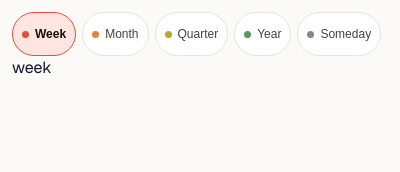
TimeframeChipGroup › clicking a different chip switches selection (not toggle)
Click the button "Quarter": (191, 34) [154,12,228,56]
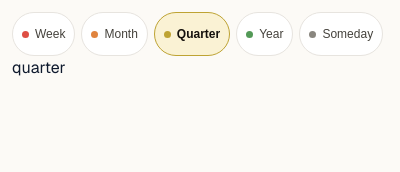
Expected: the text with test id "value" reads "quarter", [12,57,66,78]
